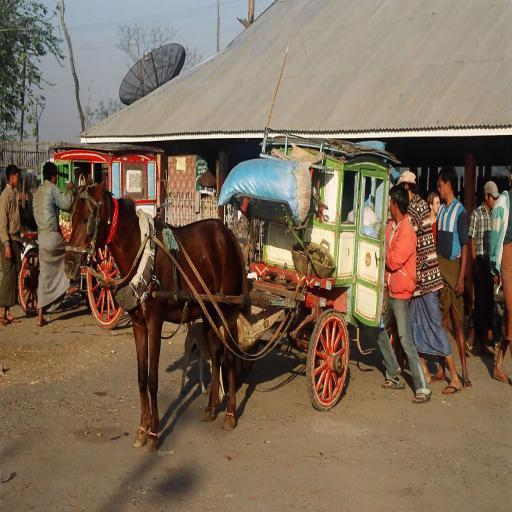horse: (60, 170, 248, 455)
